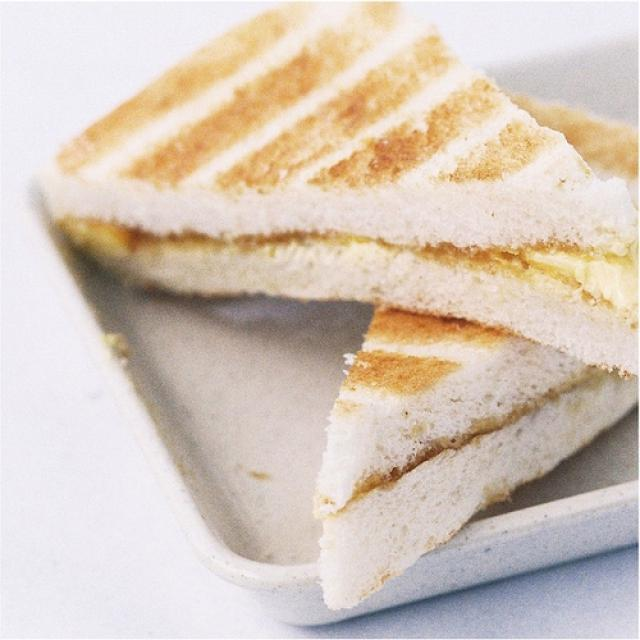面包点心: (23, 5, 623, 616)
